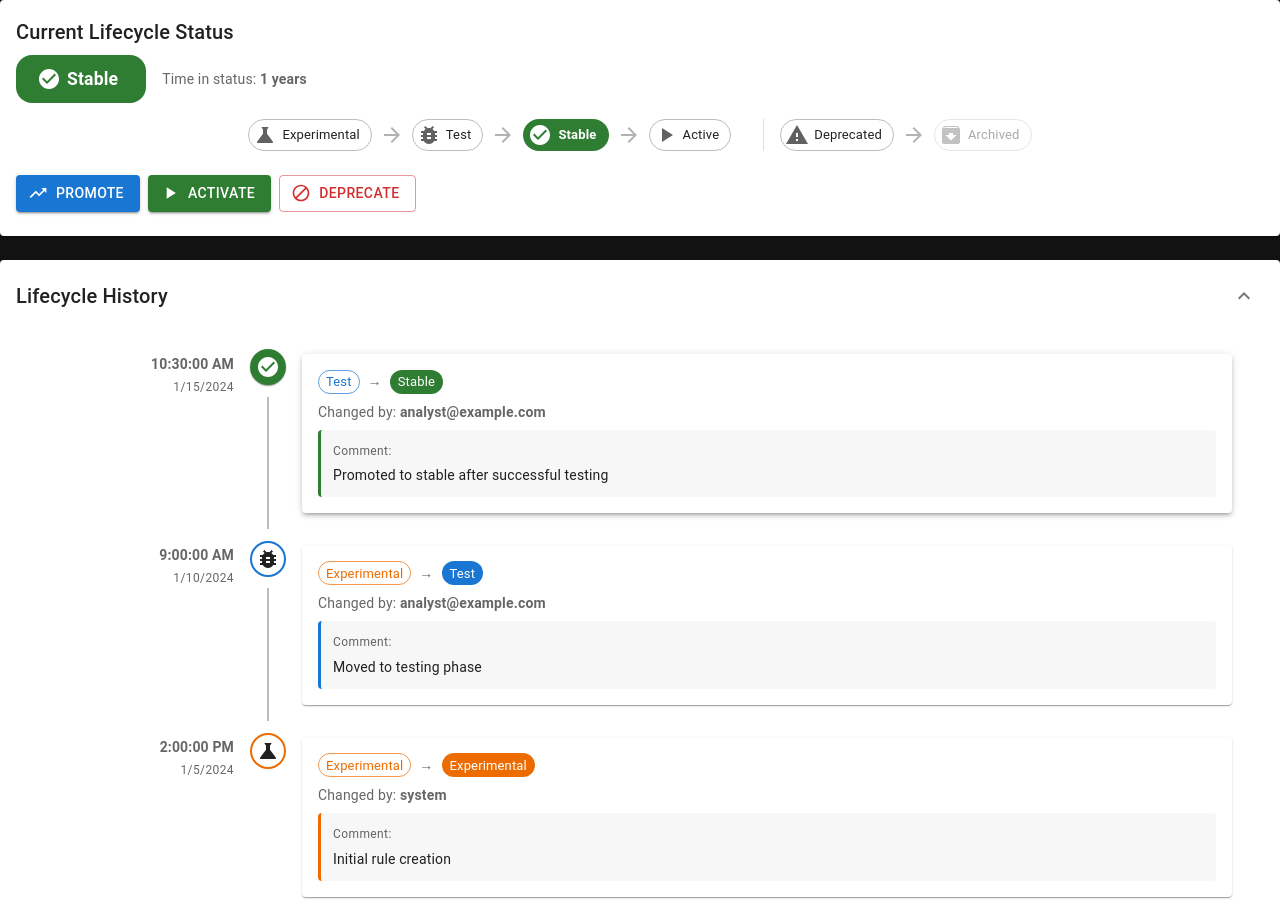
Test: RuleLifecyclePanel › Lifecycle History Timeline › can expand and collapse timeline
Click the button named "collapse timeline".
click(1244, 296)  # box left=1224, top=276, right=1264, bottom=316
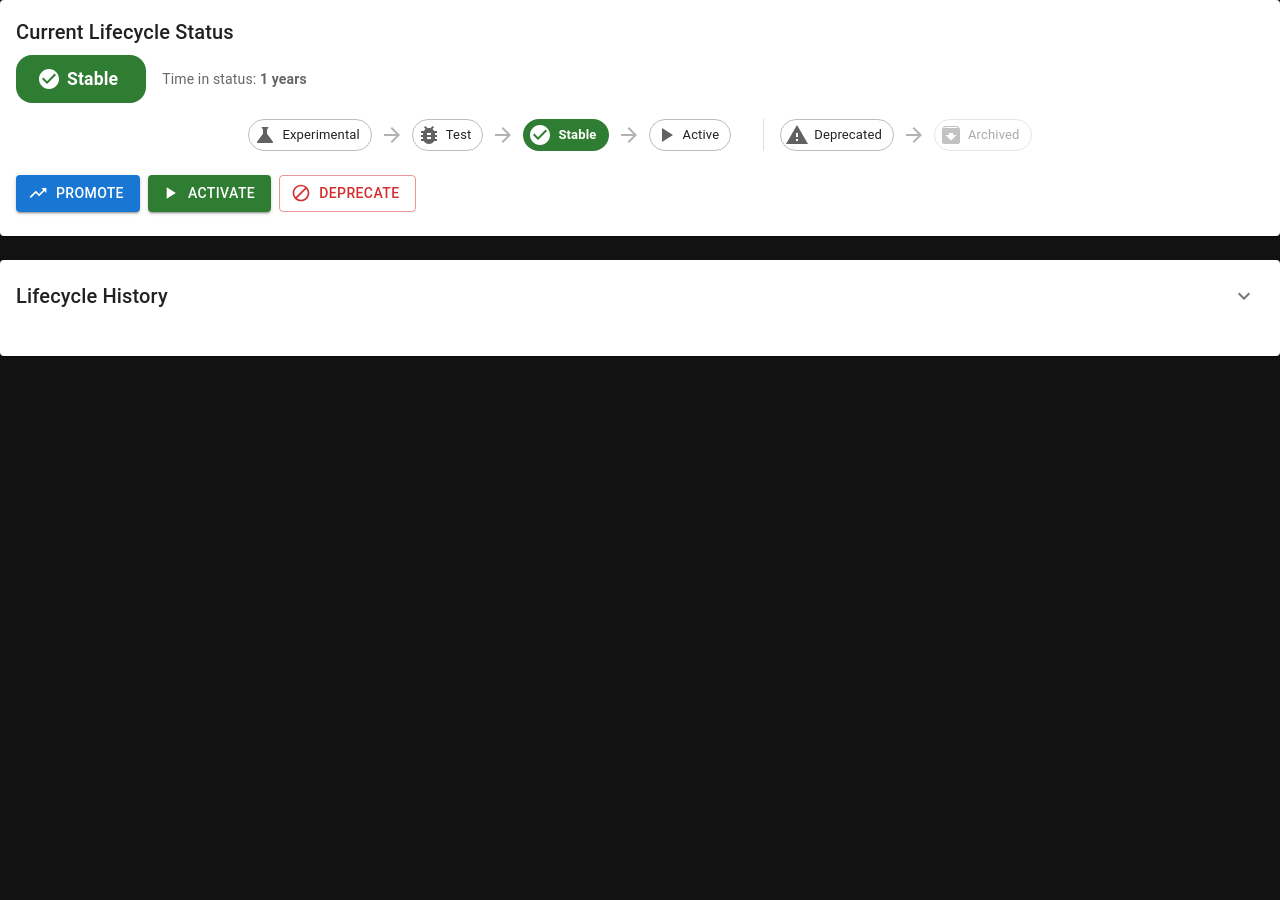
Expected: the button named "expand timeline" is shown, left=1224, top=276, right=1264, bottom=316
